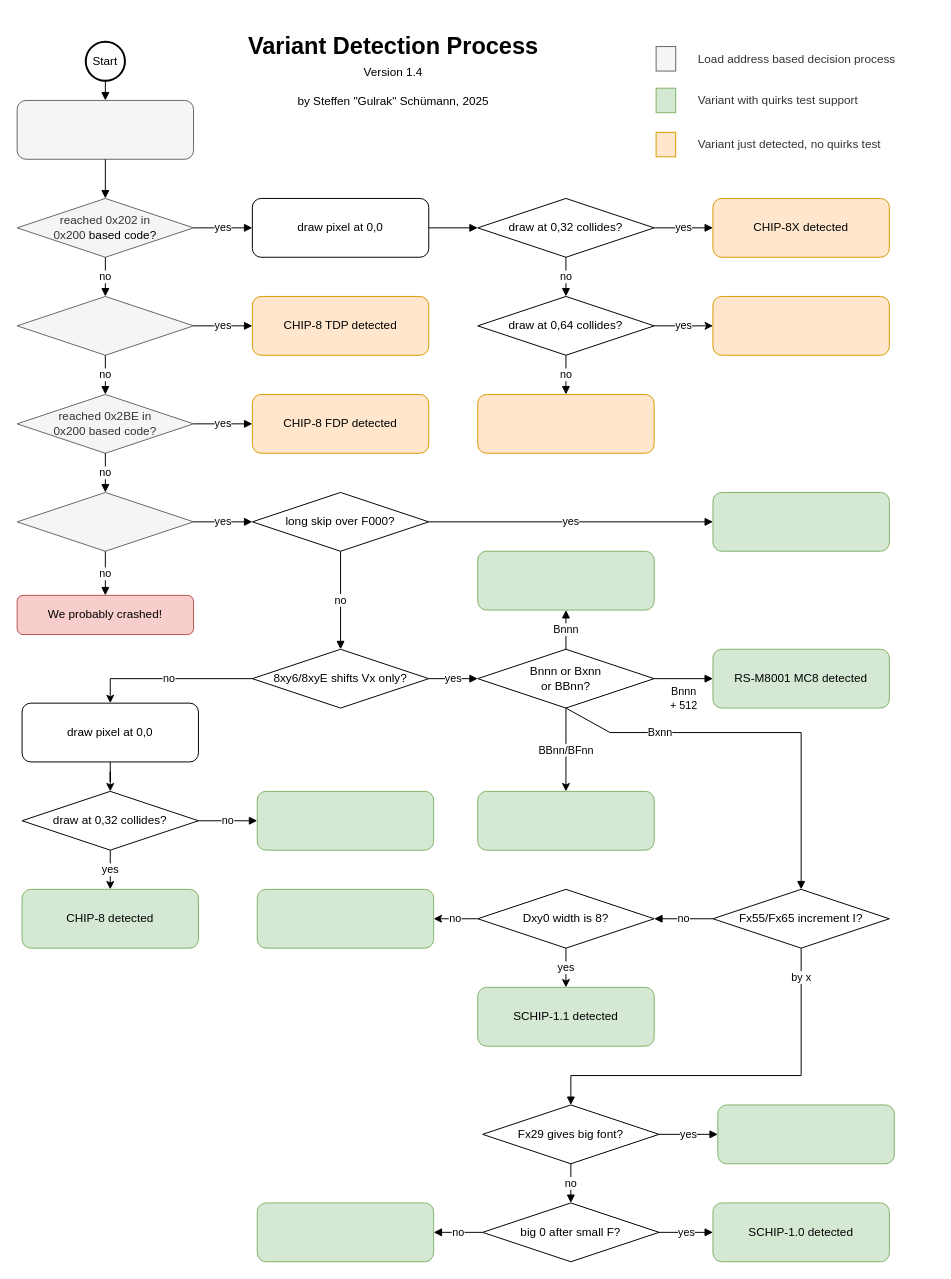
This 951x1279 diagram has some shape labels left out. The shapes that lost their labels are listed below. From the top down, each one's centre as x and y in pixels, then its label:
the point at 105,129: jump 302 (depending on load address it jumps to different offsets)
the point at 105,325: reached 0x2A2 in 0x200 based code?
the point at 800,325: CHIP-8X TPD detected
the point at 565,423: CHIP-8X FPD detected
the point at 105,521: reached 0x302 in 0x200 based code?
the point at 800,521: XO-CHIP detected
the point at 565,580: MC8-MODERN detected
the point at 345,820: CHIP-10 detected
the point at 565,820: CHIP-8E detected
the point at 345,918: SCHIP-MODERN
the point at 805,1134: SCHIP-1.0 Beta detected
the point at 345,1232: CHIP-48 detected
